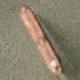ship: (0, 4, 27, 75)
